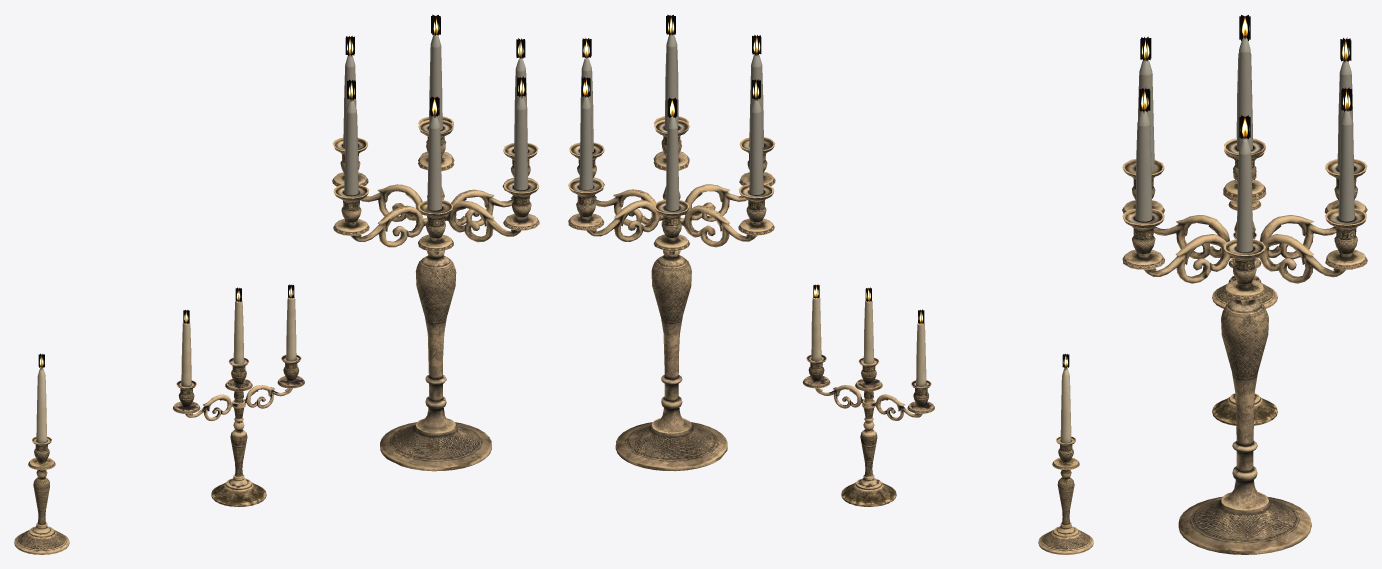
File: brass_candleholders.glb
The picture shows the model from 3 angles, left to right: view 1: azimuth 30°, elevation 25°; view 2: azimuth 150°, elevation 25°; view 3: azimuth 270°, elevation 25°; orthographic projection. The views are drawn at different scales.
Parts seen in each view (by area): view 1: brass_candleholder_03, brass_candleholder_02, brass_candleholder_01; view 2: brass_candleholder_03, brass_candleholder_02, brass_candleholder_01; view 3: brass_candleholder_03, brass_candleholder_02, brass_candleholder_01.
Boxes of the visible parts, bbox=[...] form: brass_candleholder_03: bbox=[332, 14, 539, 471]; brass_candleholder_02: bbox=[173, 284, 304, 506]; brass_candleholder_01: bbox=[14, 353, 69, 554]; brass_candleholder_03: bbox=[568, 14, 775, 471]; brass_candleholder_02: bbox=[802, 284, 934, 506]; brass_candleholder_01: bbox=[1038, 353, 1093, 554]; brass_candleholder_03: bbox=[1122, 15, 1367, 554]; brass_candleholder_02: bbox=[1212, 232, 1277, 425]; brass_candleholder_01: bbox=[1212, 174, 1277, 308].
Bounding box in the file's own units: 1.05 × 0.8353 × 0.3644.
Materials: 5 (5 with a texture image).
